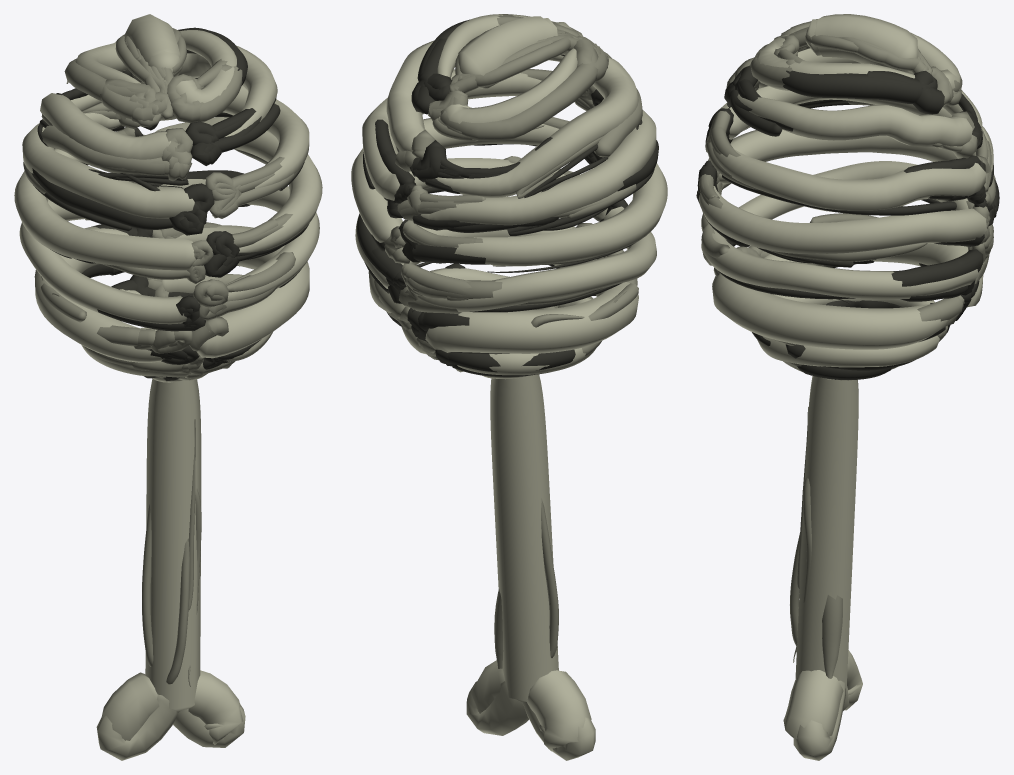
The model's file is shaaker.fbx.
The picture shows the model from 3 angles, left to right: view 1: azimuth 30°, elevation 25°; view 2: azimuth 150°, elevation 25°; view 3: azimuth 270°, elevation 25°; orthographic projection. The views are drawn at different scales.
Visible parts, largest first — view 1: brush_Wire_g0_b0; view 2: brush_Wire_g0_b0; view 3: brush_Wire_g0_b0.
Boxes of the visible parts, box(x1,y1,x2,y2) form: brush_Wire_g0_b0: box(14, 14, 322, 760); brush_Wire_g0_b0: box(351, 14, 667, 760); brush_Wire_g0_b0: box(696, 14, 999, 760).
Size of the model in its own units: 33.49 by 85.76 by 32.68.
